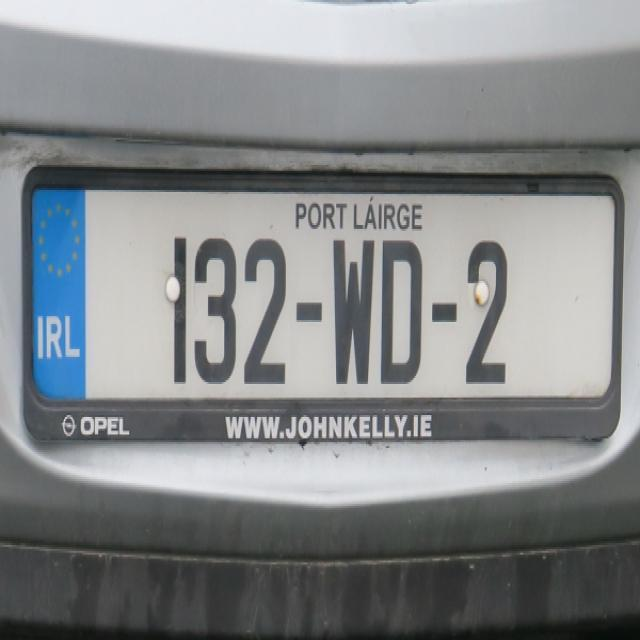3: (193, 229, 240, 391)
D: (380, 226, 428, 399)
I: (167, 208, 192, 400)
W: (328, 222, 380, 394)
